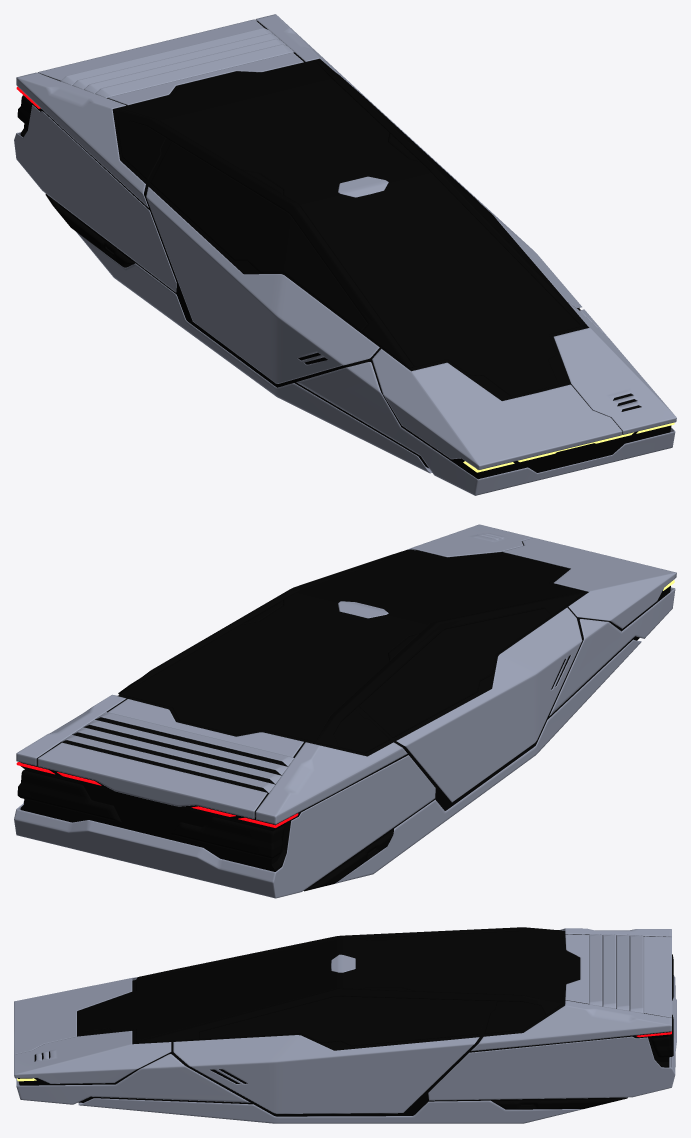
Rendered from car-1.glb.
3 renders of one model, top to bottom at view 1: azimuth 30°, elevation 25°; view 2: azimuth 150°, elevation 25°; view 3: azimuth 270°, elevation 25°, orthographic. The views are drawn at different scales.
Parts seen in each view (by area): view 1: blocker.002, blocker.013, blocker.003, blocker.016, blocker, blocker.001, blocker.007, blocker.010, blocker.011, blocker.014, blocker.017, blocker.004 (+1 smaller); view 2: blocker.002, blocker.016, blocker, blocker.003, blocker.017, blocker.013, blocker.010, blocker.011, blocker.007, blocker.006, blocker.014, blocker.001 (+3 smaller); view 3: blocker.002, blocker.003, blocker.016, blocker.013, blocker.014, blocker, blocker.010, blocker.001, blocker.007, blocker.011, blocker.017, blocker.004 (+3 smaller).
Part boxes in pixels (x1,y1,x2,y2): blocker.002: (118, 61, 580, 396); blocker.013: (372, 303, 676, 469); blocker.003: (146, 126, 581, 383); blocker.016: (14, 105, 176, 292); blocker: (20, 21, 671, 479); blocker.001: (296, 309, 675, 495); blocker.007: (118, 61, 584, 367); blocker.010: (16, 14, 402, 207); blocker.011: (60, 28, 293, 97); blocker.014: (76, 232, 431, 473); blocker.017: (37, 19, 303, 105); blocker.004: (45, 194, 135, 267); blocker.002: (121, 550, 580, 753); blocker.016: (14, 755, 435, 898); blocker: (20, 541, 670, 886); blocker.003: (396, 607, 582, 802); blocker.017: (37, 699, 303, 819); blocker.013: (408, 524, 676, 628); blocker.010: (16, 694, 407, 824); blocker.011: (61, 712, 294, 792); blocker.007: (118, 549, 584, 747); blocker.006: (17, 769, 284, 858); blocker.014: (334, 639, 641, 883); blocker.001: (549, 587, 675, 715); blocker.002: (79, 930, 577, 1046); blocker.003: (173, 1035, 479, 1113); blocker.016: (428, 975, 676, 1100); blocker.013: (14, 977, 171, 1083); blocker.014: (78, 1098, 583, 1123); blocker: (18, 931, 669, 1116); blocker.010: (471, 928, 671, 1051); blocker.001: (16, 1054, 250, 1104); blocker.007: (136, 927, 561, 1042); blocker.011: (589, 934, 643, 1013); blocker.017: (565, 934, 671, 1017); blocker.004: (491, 1097, 627, 1109).
Bounding box in the file's own units: 2.05 × 1.1 × 5.81.
